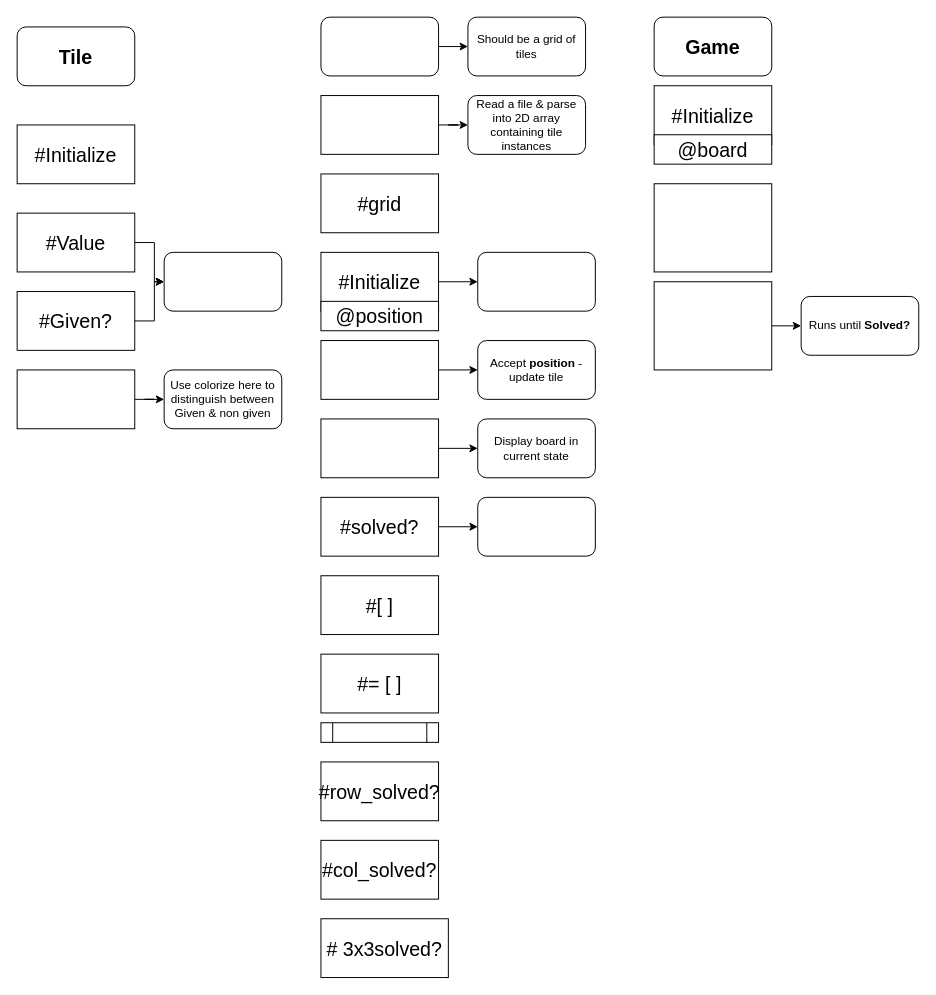
Some shapes in this 936 by 995 pixel diagram are drawn without their labels. Each missing label, with the centre of its shape:
##from_file: the point at 379,124
#board-player interaction: the point at 712,227
#play (loop): the point at 712,325
#render: the point at 379,448
#to_s: the point at 75,399
#update: the point at 379,369
= Game over: the point at 536,526
Accept grid as argument: the point at 536,281
Board: the point at 379,46
Can't change the value of a given tile: the point at 222,281
Helpers: the point at 379,732
